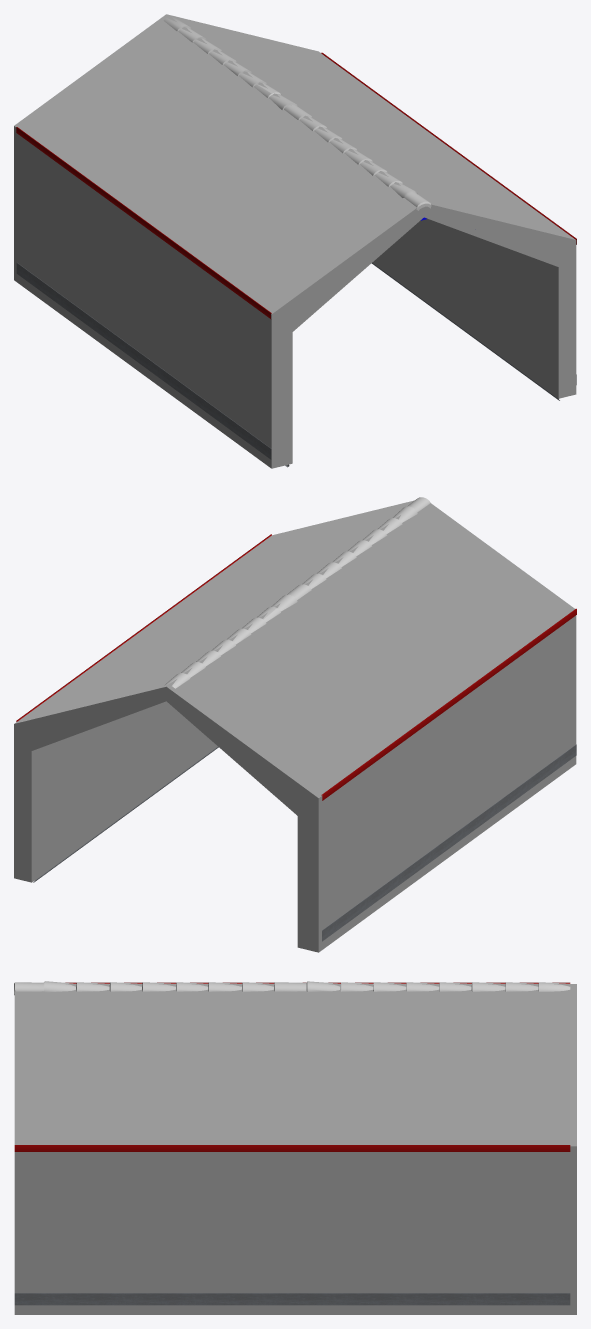
Rendered from M_md_RoofTop_8m_01.fbx.
3 views of the same model, one above another, from view 1: azimuth 30°, elevation 25°; view 2: azimuth 150°, elevation 25°; view 3: azimuth 270°, elevation 25° (orthographic). The views are drawn at different scales.
Parts seen in each view (by area): view 1: M_md_RoofTop_8m_01_col, M_md_RoofTop_8m_01_Roof_LOD0, M_md_RoofTop_8m_01_dyn_LOD0, M_md_RoofTop_8m_01_LOD0; view 2: M_md_RoofTop_8m_01_col, M_md_RoofTop_8m_01_Roof_LOD0, M_md_RoofTop_8m_01_dyn_LOD0, M_md_RoofTop_8m_01_LOD0; view 3: M_md_RoofTop_8m_01_col, M_md_RoofTop_8m_01_dyn_LOD0, M_md_RoofTop_8m_01_Roof_LOD0, M_md_RoofTop_8m_01_LOD0.
Part boxes in pixels (bbox=[...]): M_md_RoofTop_8m_01_col: bbox=[14, 14, 576, 468]; M_md_RoofTop_8m_01_Roof_LOD0: bbox=[163, 17, 431, 210]; M_md_RoofTop_8m_01_dyn_LOD0: bbox=[16, 263, 576, 459]; M_md_RoofTop_8m_01_LOD0: bbox=[16, 52, 576, 467]; M_md_RoofTop_8m_01_col: bbox=[14, 500, 576, 952]; M_md_RoofTop_8m_01_Roof_LOD0: bbox=[164, 497, 430, 688]; M_md_RoofTop_8m_01_dyn_LOD0: bbox=[322, 744, 576, 941]; M_md_RoofTop_8m_01_LOD0: bbox=[16, 534, 576, 882]; M_md_RoofTop_8m_01_col: bbox=[14, 984, 576, 1314]; M_md_RoofTop_8m_01_dyn_LOD0: bbox=[14, 1293, 570, 1305]; M_md_RoofTop_8m_01_Roof_LOD0: bbox=[14, 981, 570, 995]; M_md_RoofTop_8m_01_LOD0: bbox=[14, 982, 570, 1151].
Size of what is drawn, in the model's own units: 555 by 404 by 811.
